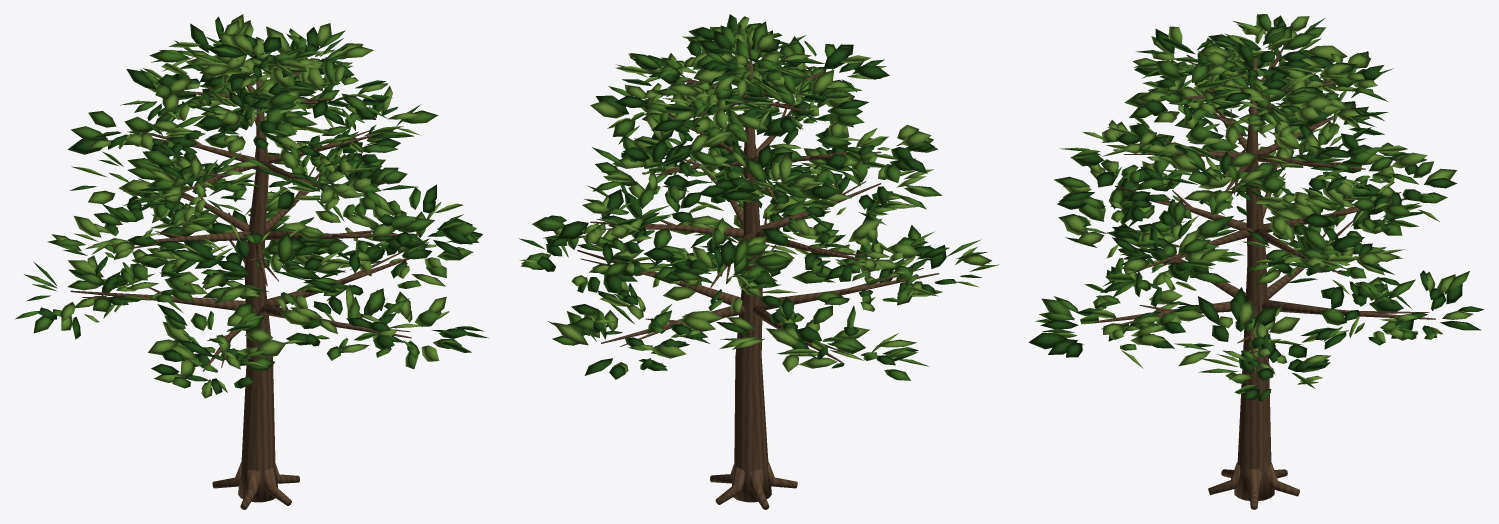
File: MV_Tree_KetapangKencana_5m.fbx
3 views of the same model, side by side, from view 1: azimuth 30°, elevation 25°; view 2: azimuth 150°, elevation 25°; view 3: azimuth 270°, elevation 25° (orthographic).
Parts seen in each view (by area): view 1: LOD0_Mesh, LOD1_Mesh, LOD2_Mesh; view 2: LOD0_Mesh, LOD1_Mesh, LOD2_Mesh; view 3: LOD0_Mesh, LOD1_Mesh, LOD2_Mesh.
Part boxes in pixels (<box>): LOD0_Mesh: <box>15,14,488,509</box>; LOD1_Mesh: <box>72,64,409,509</box>; LOD2_Mesh: <box>71,72,411,508</box>; LOD0_Mesh: <box>519,14,999,509</box>; LOD1_Mesh: <box>591,51,938,509</box>; LOD2_Mesh: <box>579,51,936,508</box>; LOD0_Mesh: <box>1028,14,1484,509</box>; LOD1_Mesh: <box>1096,50,1433,508</box>; LOD2_Mesh: <box>1098,56,1435,508</box>.
Bounding box in the file's own units: 4.99 × 5 × 4.52.
